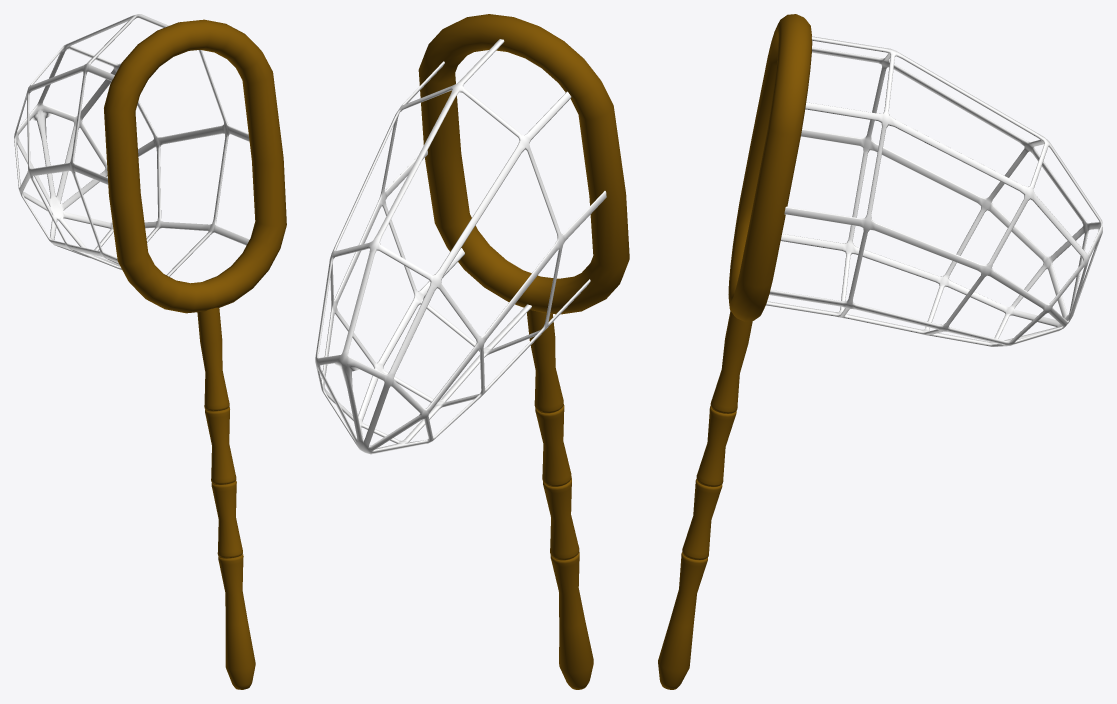
File: Jelly Fish Net.fbx
3 views of the same model, side by side, from view 1: azimuth 30°, elevation 25°; view 2: azimuth 150°, elevation 25°; view 3: azimuth 270°, elevation 25° (orthographic). The views are drawn at different scales.
Visible parts, largest first — view 1: Jelly Fish Net; view 2: Jelly Fish Net; view 3: Jelly Fish Net.
Part boxes in pixels (x1,y1,x2,y2): Jelly Fish Net: (14, 14, 286, 689); Jelly Fish Net: (315, 14, 629, 689); Jelly Fish Net: (658, 14, 1102, 689).
Bounding box in the file's own units: 186 × 648 × 393.
